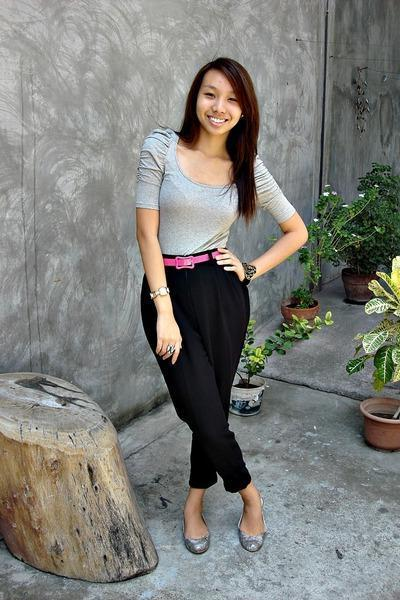short sleeve shirt: (127, 125, 295, 262)
trousers: (137, 245, 254, 488)
